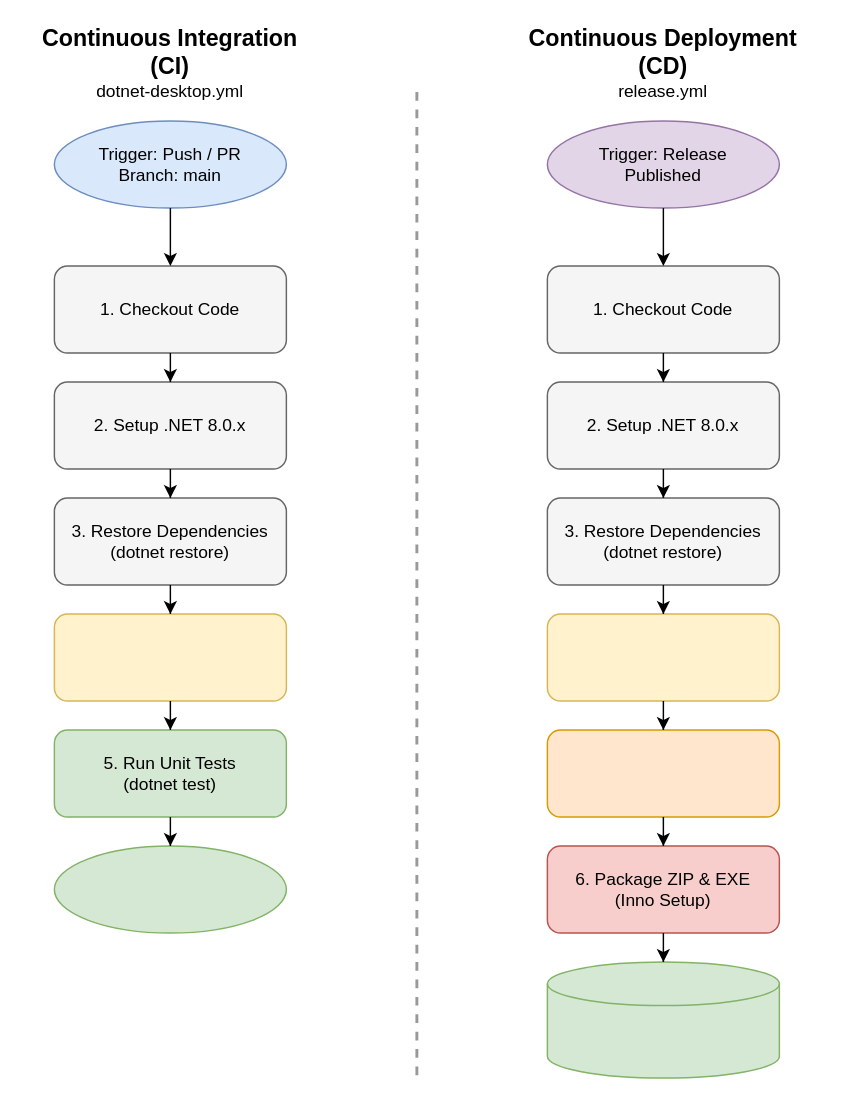
Some shapes in this 847 by 1106 pixel diagram are drawn without their labels. Here are the shapes that lost their labels. From the top down, the box of each, then its label:
(53, 613, 286, 701): 4. Build Project (dotnet build)
(546, 613, 779, 701): 4. Extract Version
(546, 729, 779, 817): 5. Publish Multi-arch (x64, x86, arm64)
(53, 845, 286, 933): CI Pass
(546, 961, 779, 1078): 7. Upload to GitHub Releases
